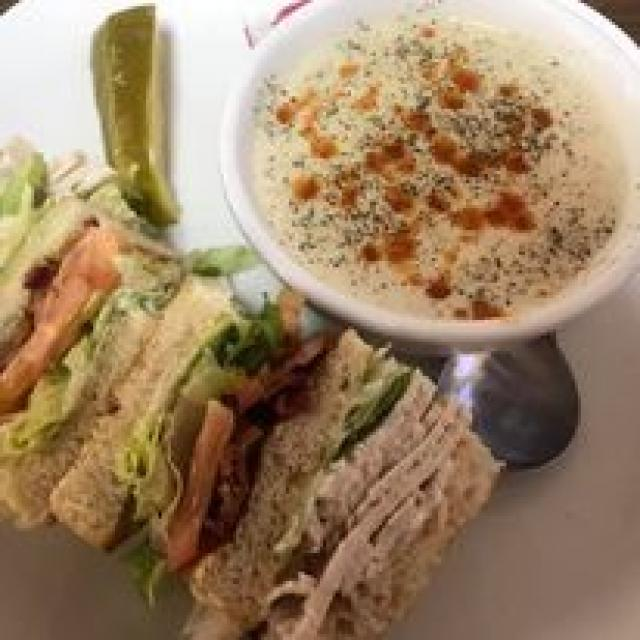Sandwich: (3, 233, 497, 634)
